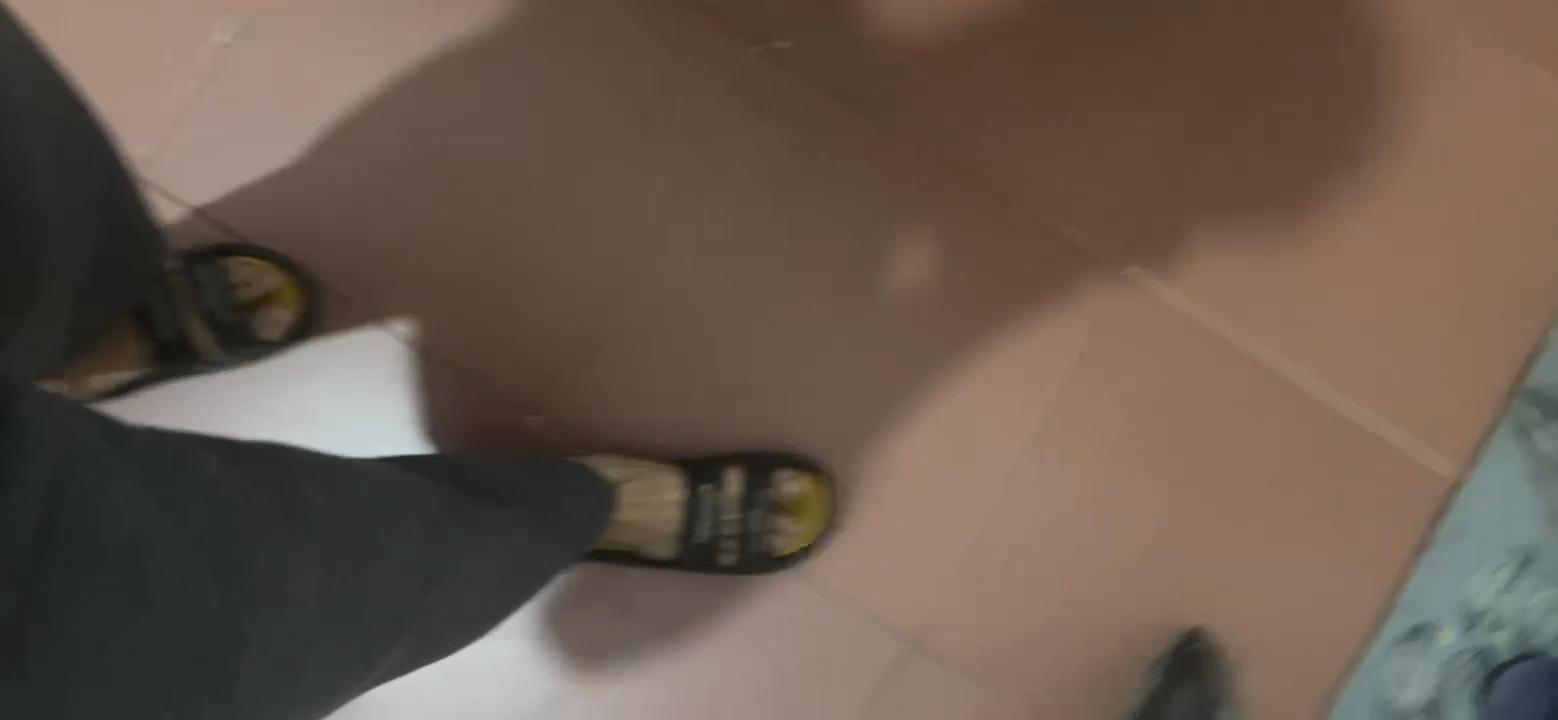no-boot: (553, 427, 864, 593), (85, 229, 322, 402)
